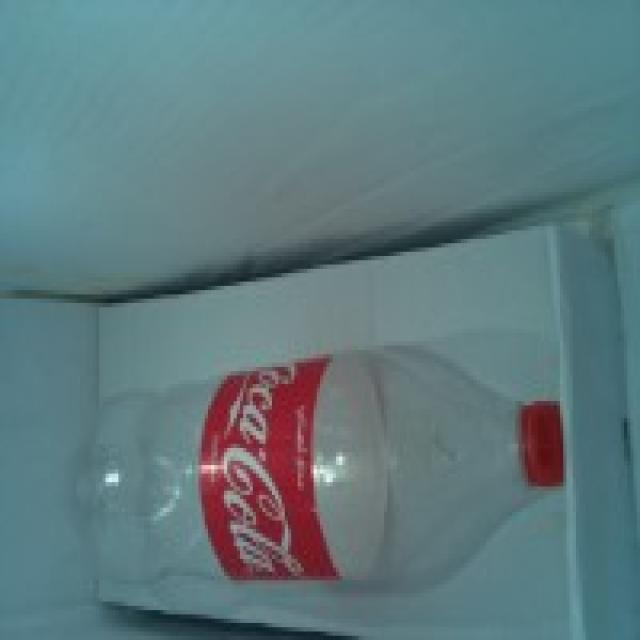Anorganik: (70, 350, 564, 601)
